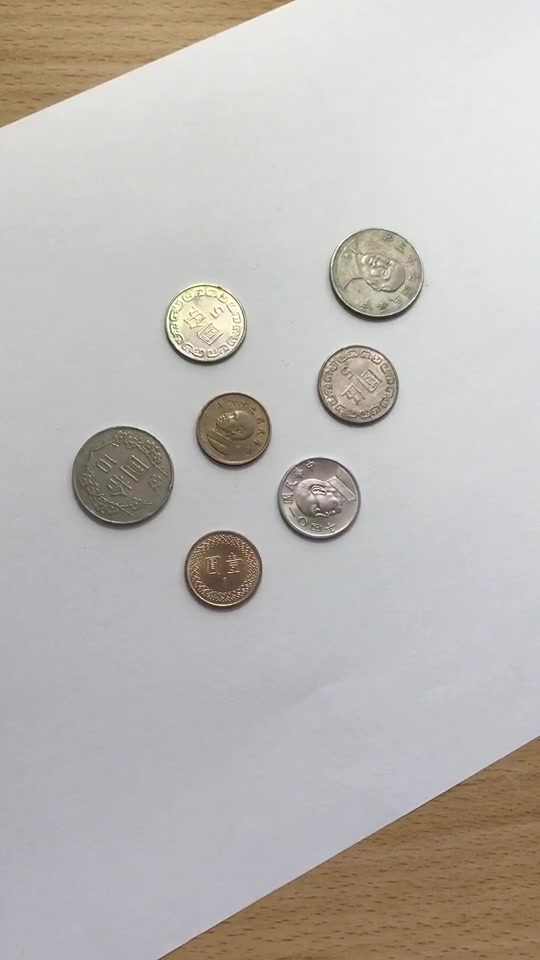1 dallar: (188, 382, 277, 474), (178, 521, 267, 613)
10 dallar: (315, 214, 428, 331), (64, 417, 177, 534)
5 dallar: (154, 267, 255, 365), (300, 339, 401, 437), (271, 451, 372, 549)
